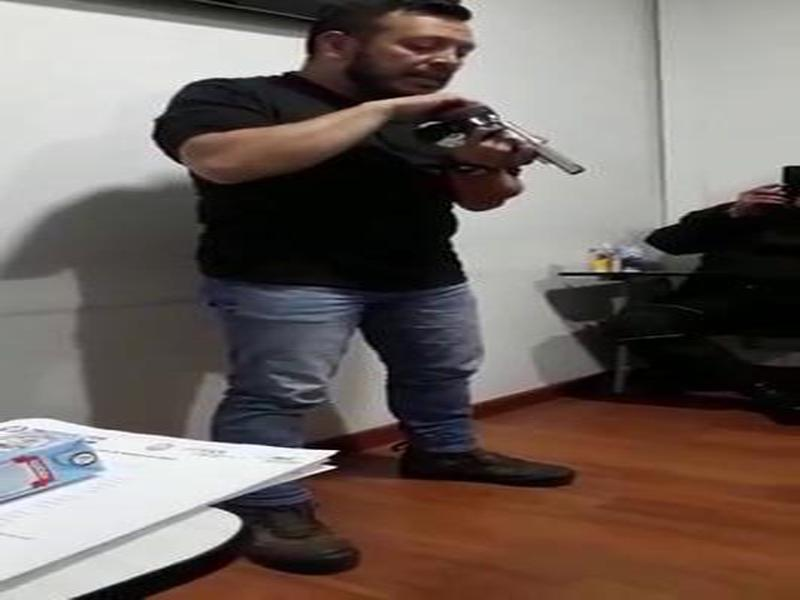Revolver: (449, 85, 614, 220)
